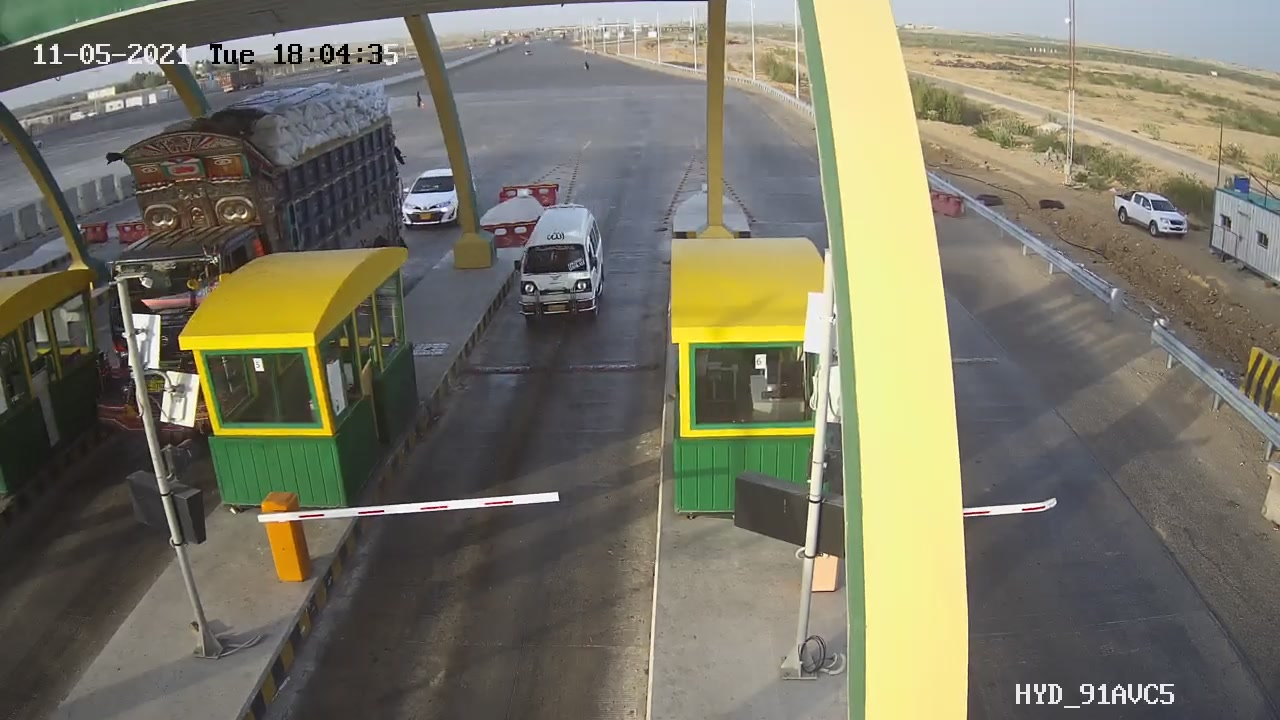F1: (491, 188, 638, 342)
